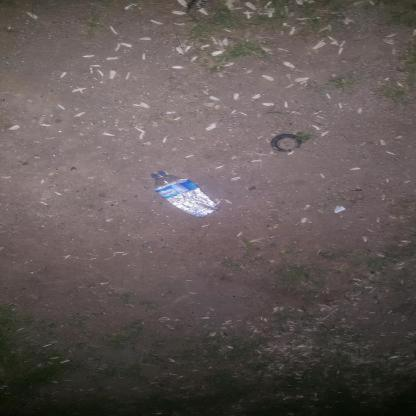Bottle cap: (150, 171, 221, 218)
Other plastic: (271, 133, 301, 151)
